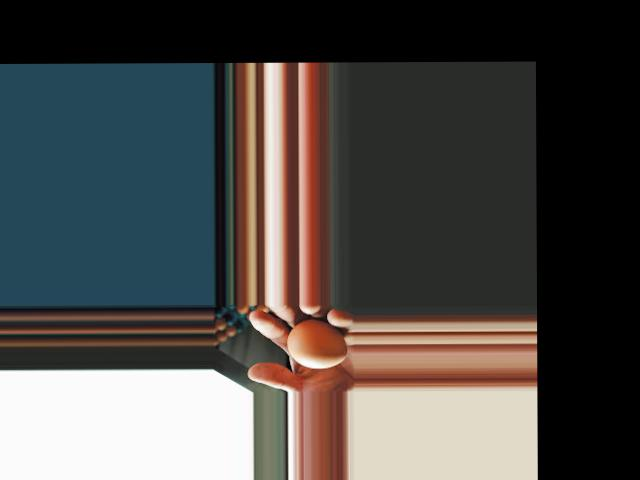egg: (287, 317, 349, 368)
